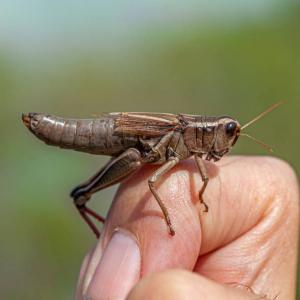locust: (10, 102, 269, 192)
